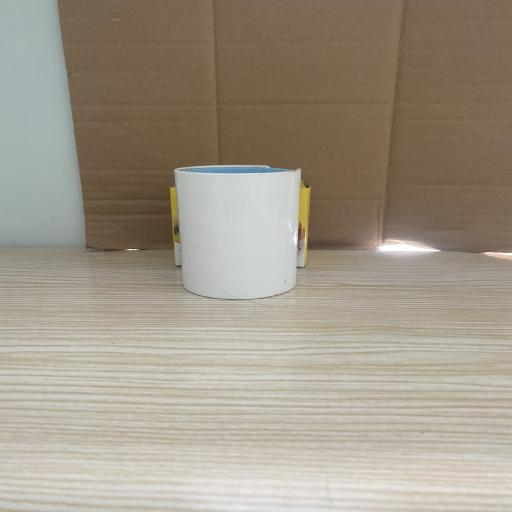custas: (170, 182, 312, 267)
